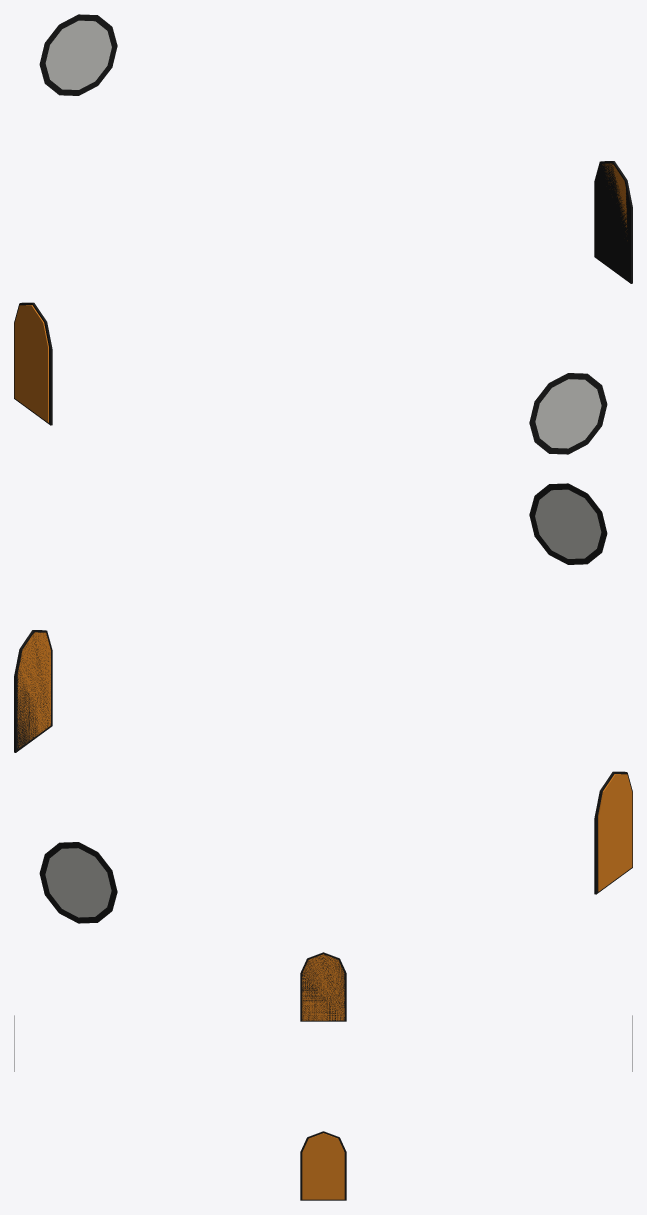
Rendered from bunk500_hatches.obj.
The picture shows the model from 3 angles, top to bottom: view 1: azimuth 30°, elevation 25°; view 2: azimuth 150°, elevation 25°; view 3: azimuth 270°, elevation 25°; orthographic projection. The views are drawn at different scales.
Parts seen in each view (by area): view 1: bunk500_hatches; view 2: bunk500_hatches; view 3: bunk500_hatches.
Part boxes in pixels (<box>): bunk500_hatches: <box>14,14,632,454</box>; bunk500_hatches: <box>14,483,632,923</box>; bunk500_hatches: <box>14,952,632,1200</box>.
Size of the model in its own units: 12.32 by 2.97 by 17.9.
